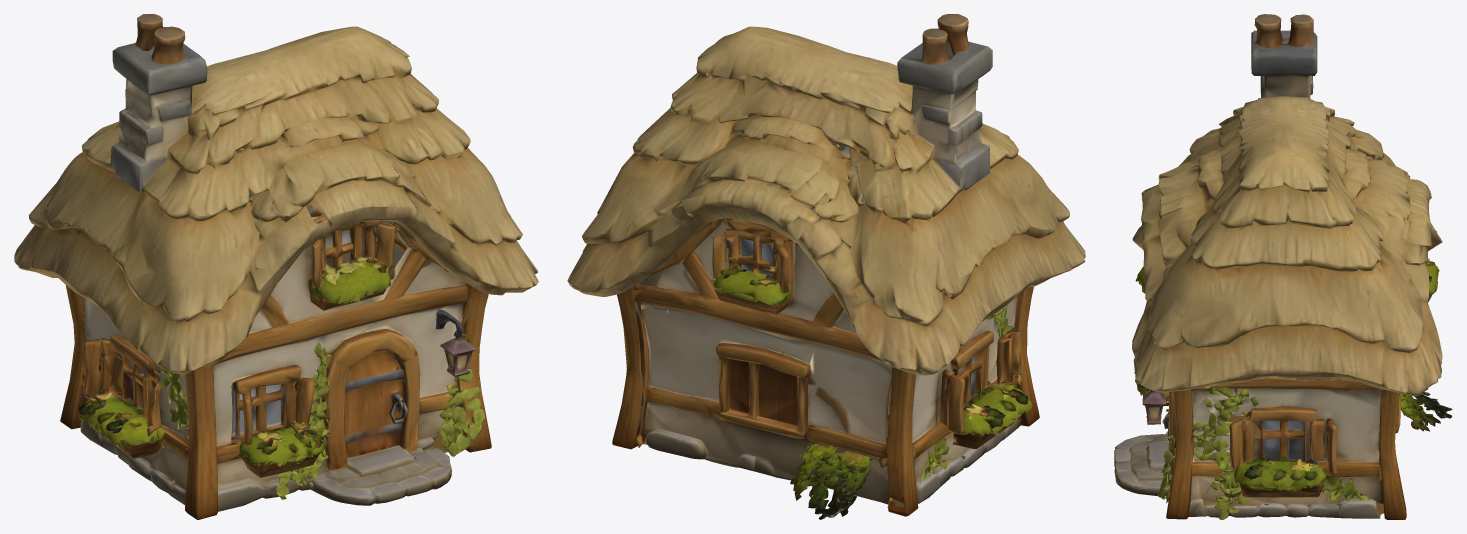
Rendered from original.glb.
The picture shows the model from 3 angles, left to right: view 1: azimuth 30°, elevation 25°; view 2: azimuth 150°, elevation 25°; view 3: azimuth 270°, elevation 25°; orthographic projection. The views are drawn at different scales.
Parts seen in each view (by area): view 1: world; view 2: world; view 3: world.
Boxes of the visible parts, box(x1,y1,x2,y2) form: world: box(14, 14, 538, 519); world: box(567, 14, 1085, 519); world: box(1114, 14, 1452, 519).
Bounding box in the file's own units: 0.9371 × 1 × 0.7931.
1 material, 1 textured.
